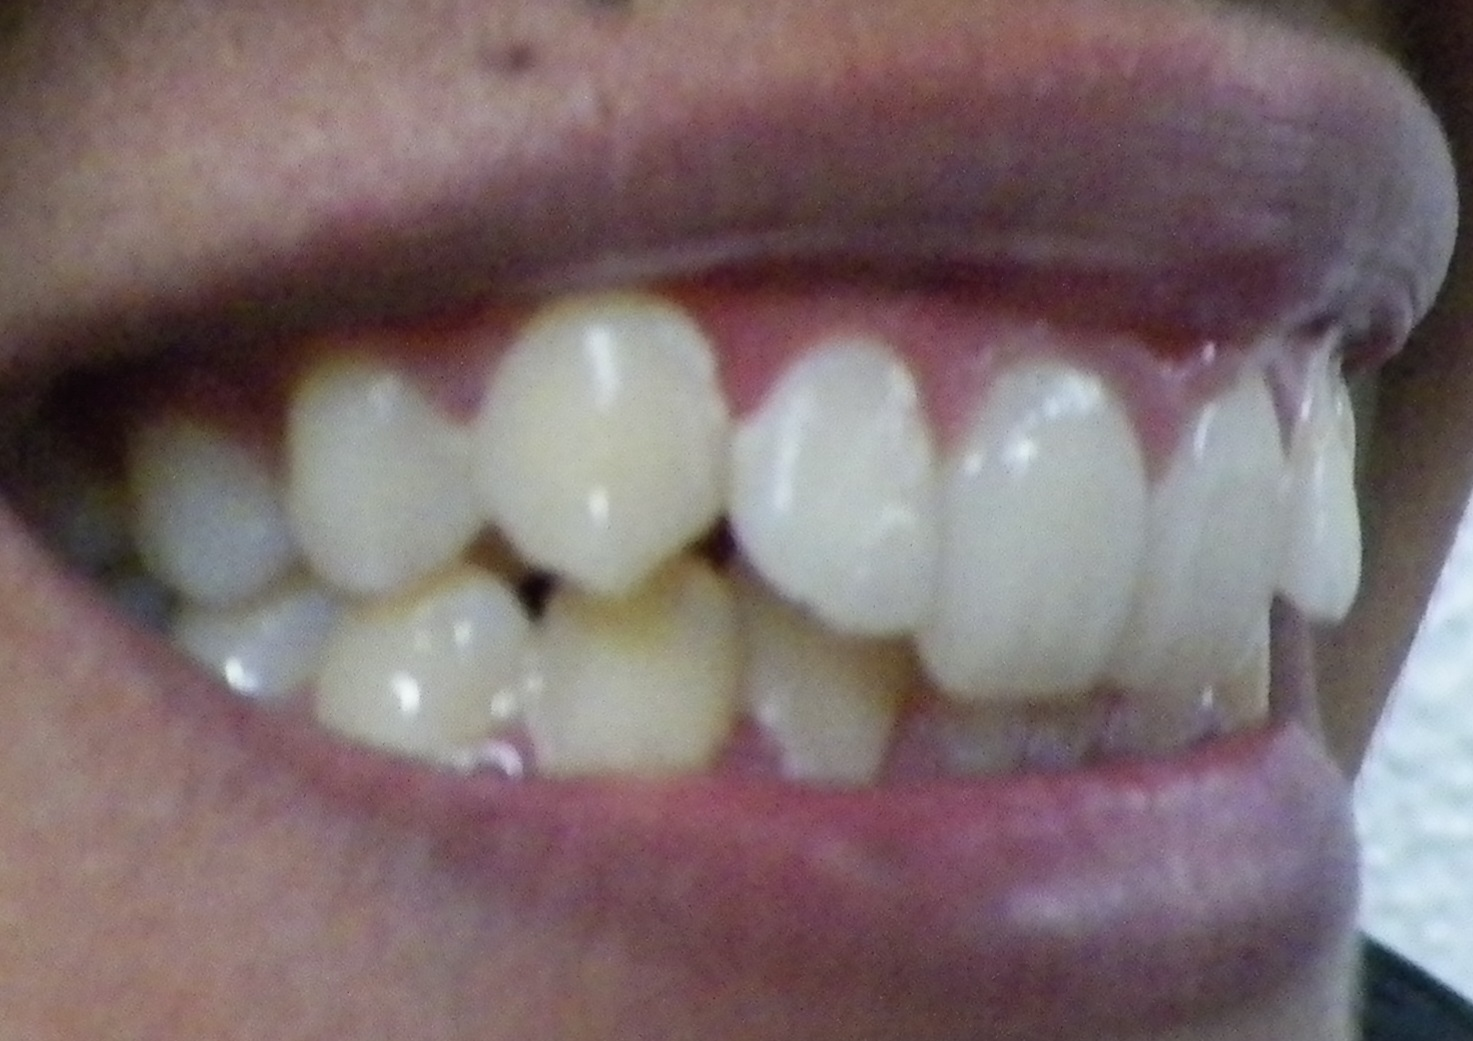boca: (81, 324, 1392, 780)
